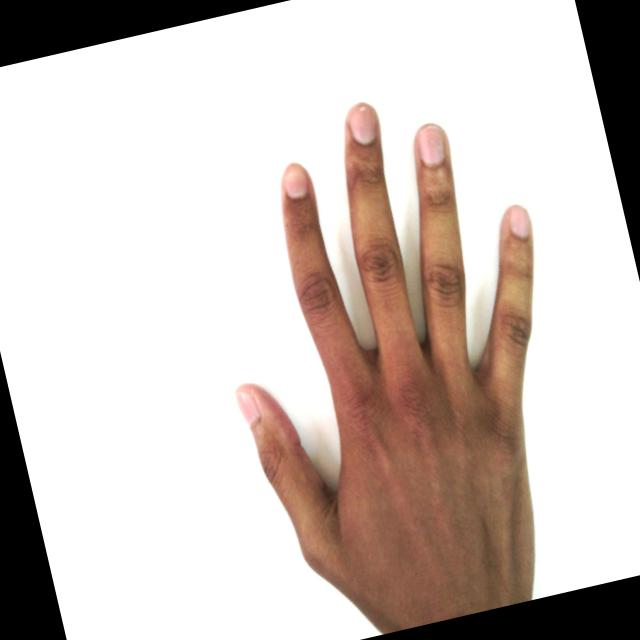Nail: (346, 101, 378, 143), (415, 123, 444, 165), (280, 162, 308, 199), (233, 389, 260, 427), (506, 204, 528, 237)
